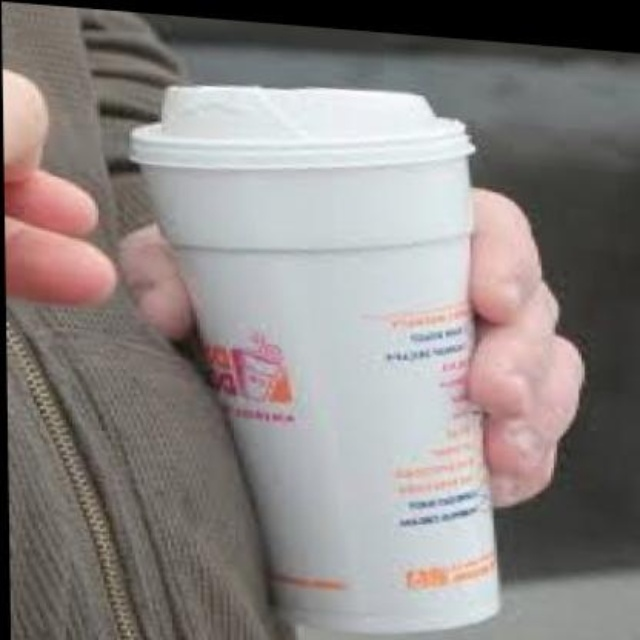trash: (132, 86, 497, 631)
